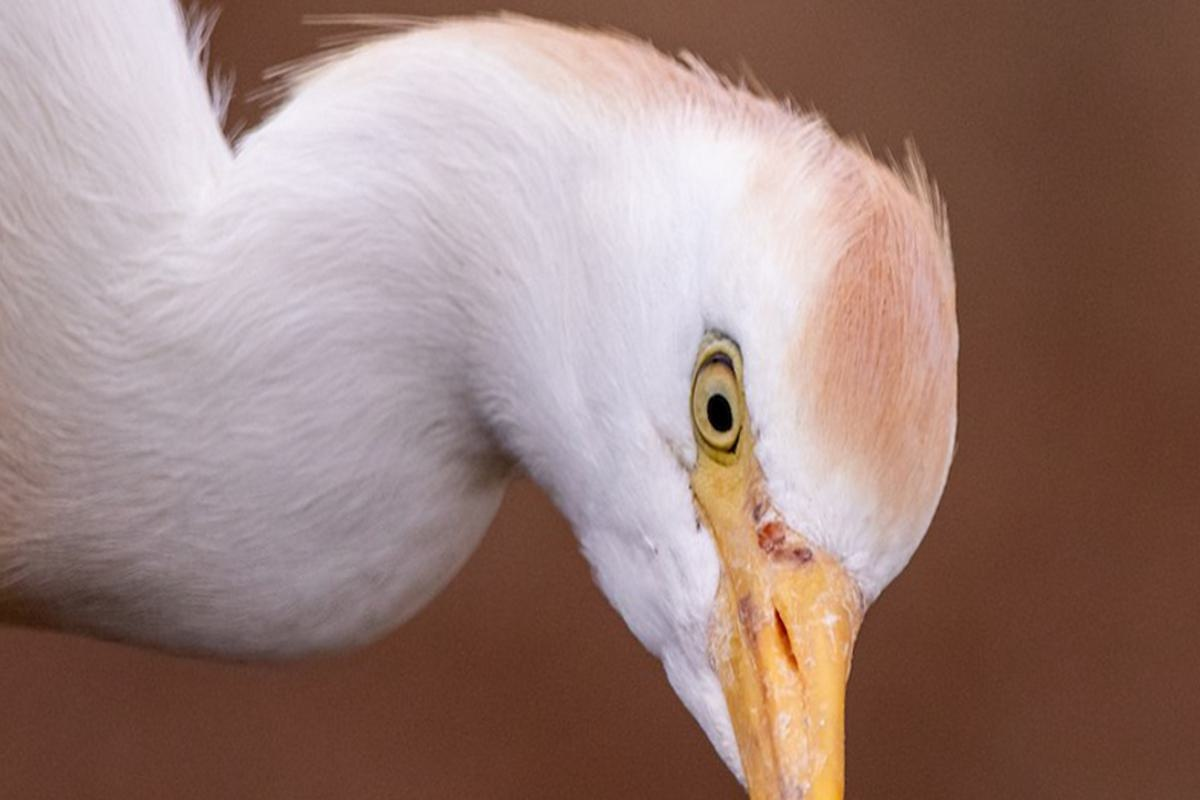egret: (1, 15, 1030, 800)
